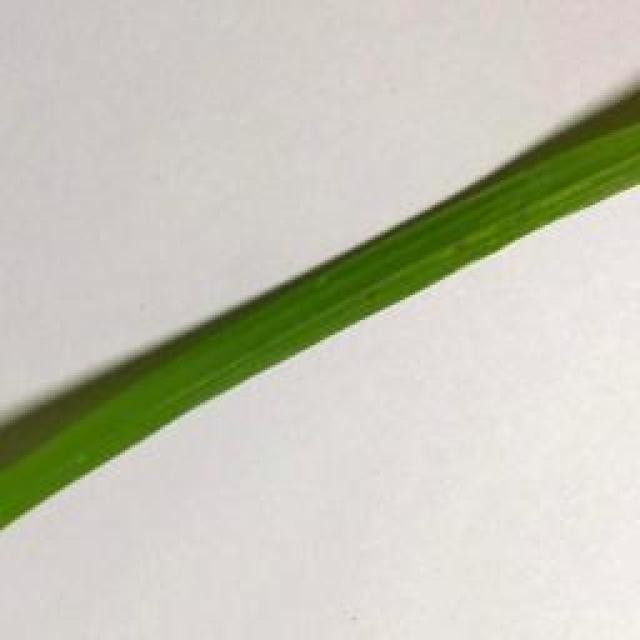Brown_Spot: (434, 224, 488, 270), (366, 287, 388, 315)
